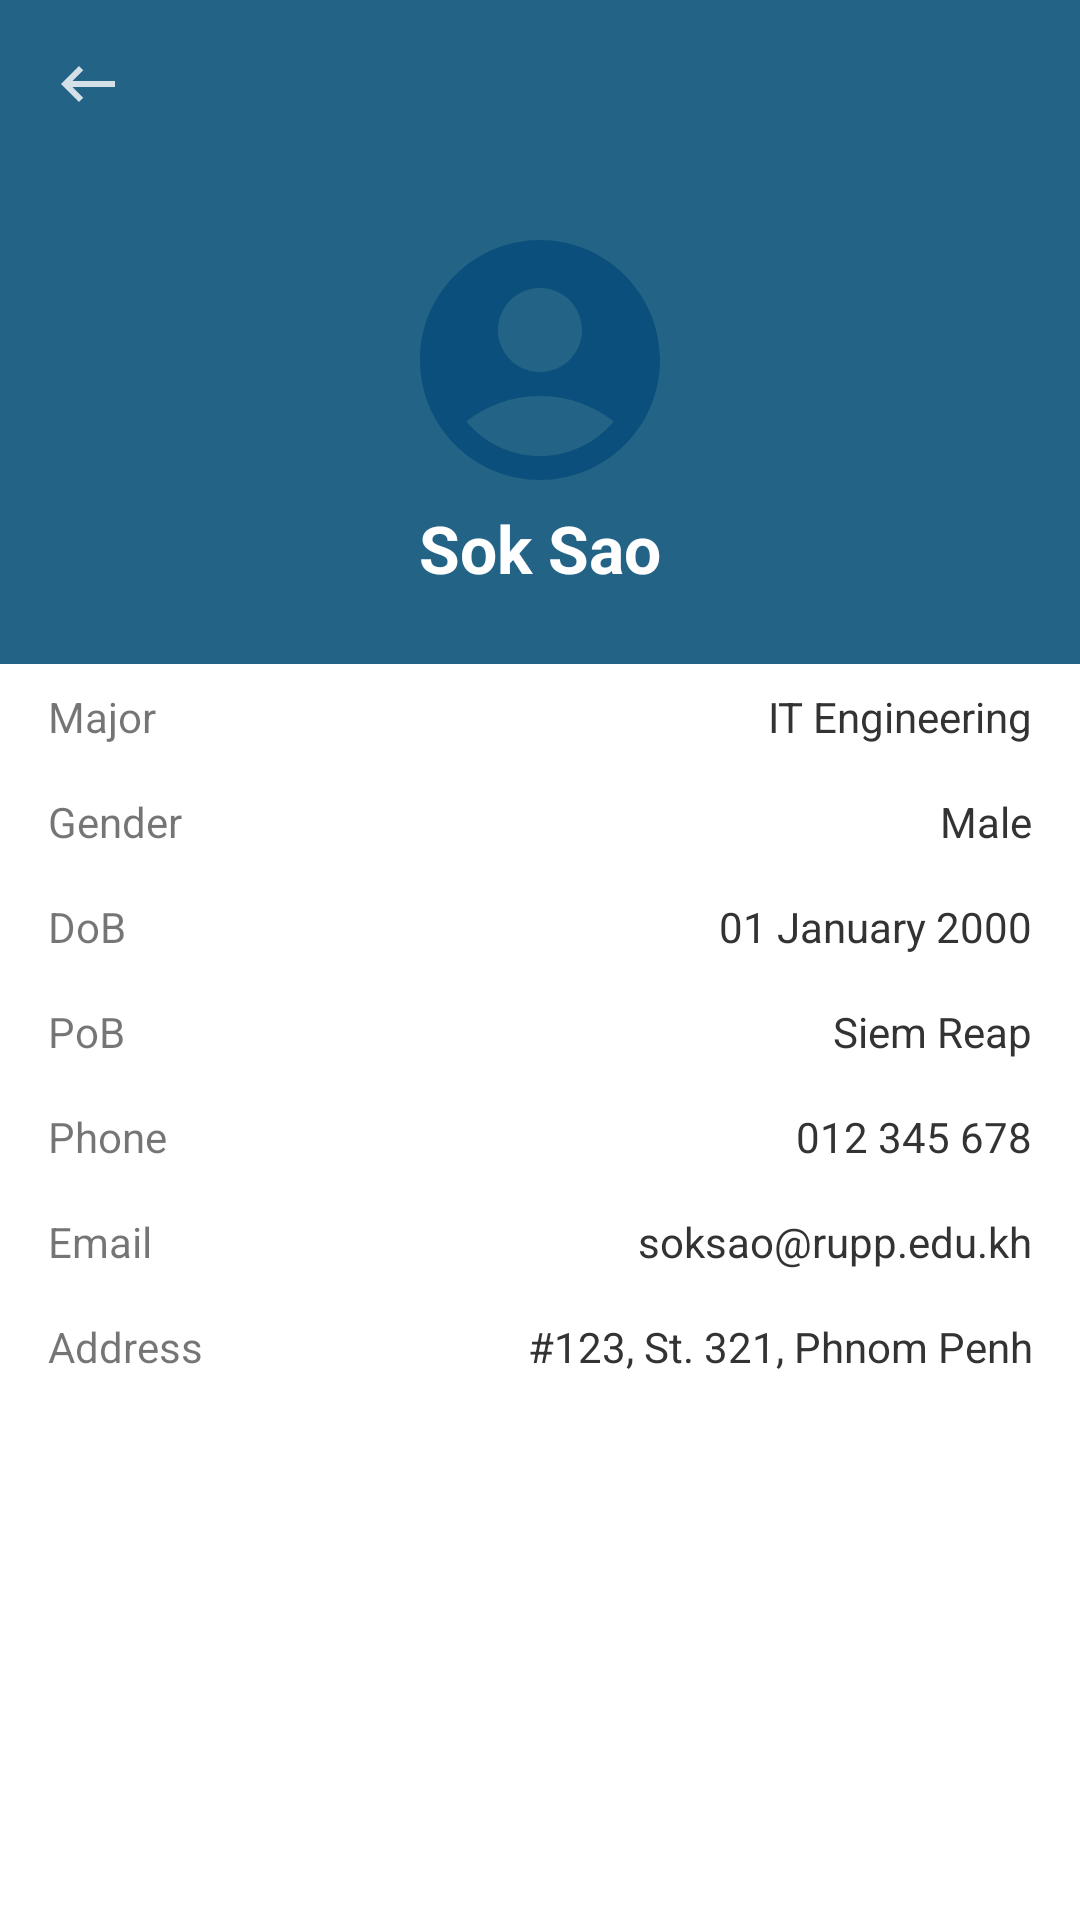

Where to tap for icons on this 1080x1920 app screen, as (x=x, y=y):
back: (x=88, y=84)
